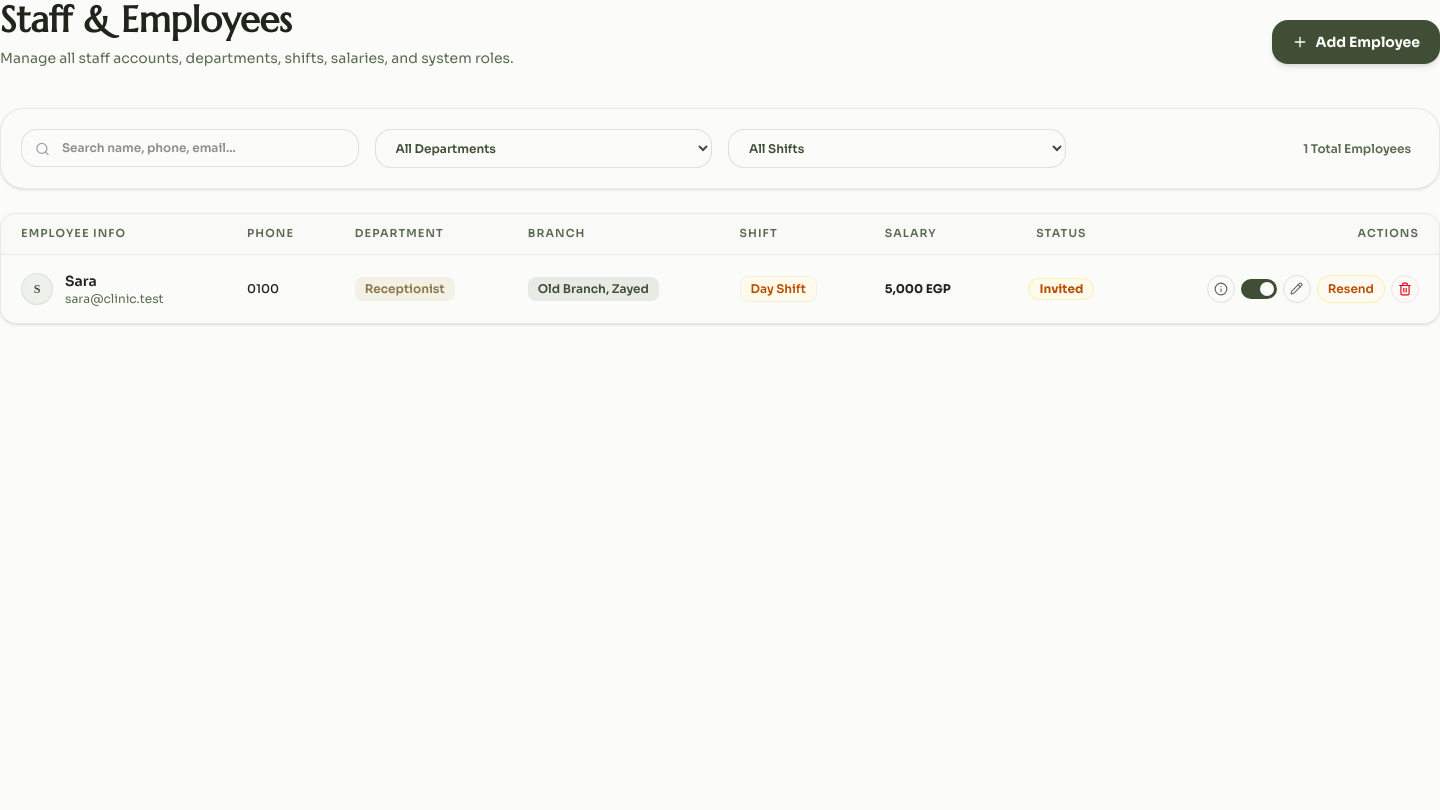
Scenario: Edit Employee — branch assignment › keeps showing an existing assignment to a now-inactive branch (ticked, primary, badged)
Click the button named "Edit Employee": point(1297, 289) [1283,275,1311,303]
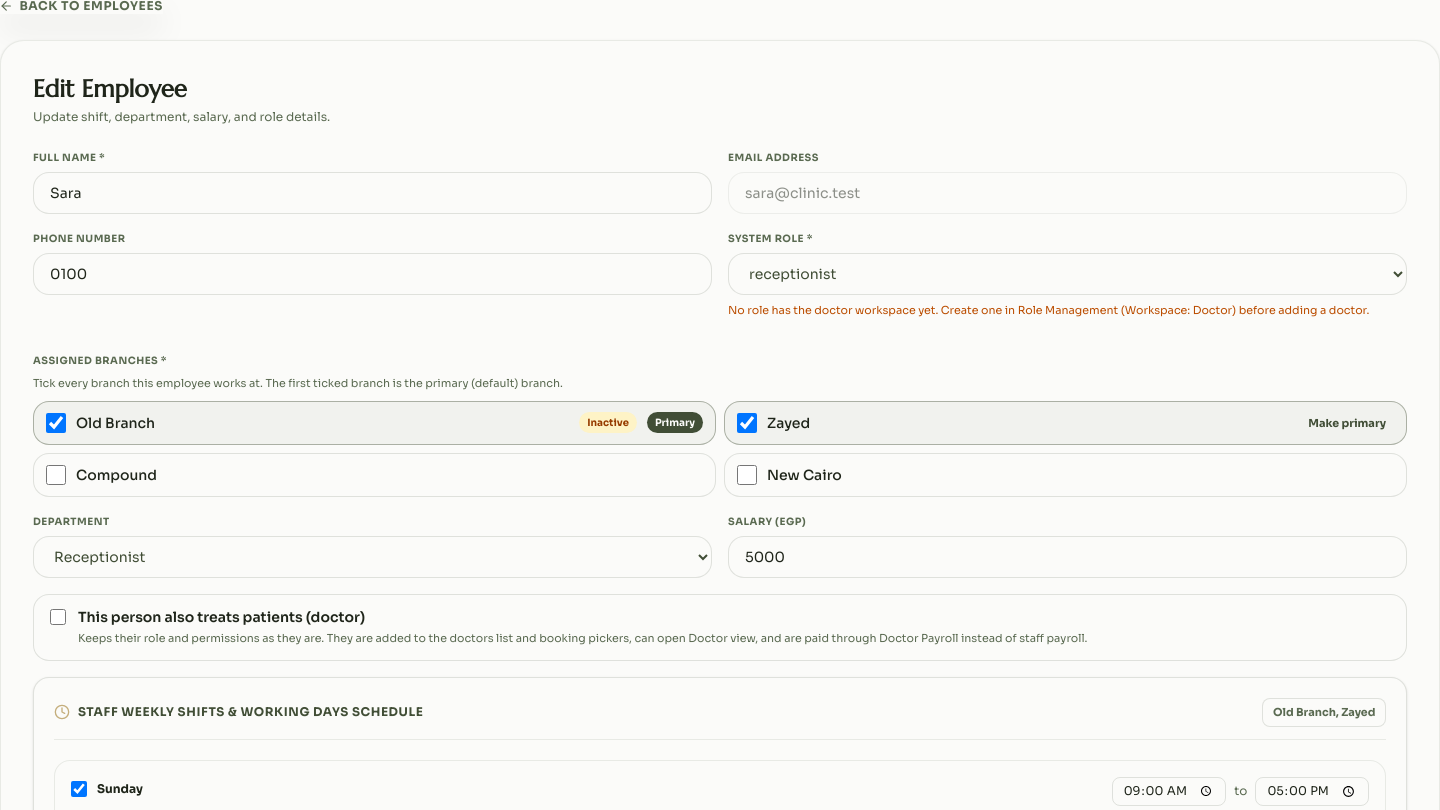
Check: the checkbox labelled "Old Branch Inactive Primary" is checked, box [46,413,66,433]
Check: the list item "Old Branch Inactive Primary" is shown, box [33,401,716,445]
Check: the checkbox labelled "Zayed" is checked, box [737,413,757,433]
